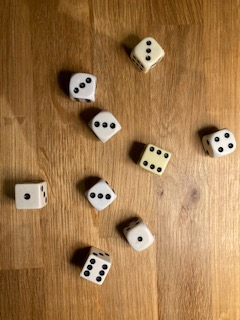four: (202, 129, 237, 159)
one: (123, 219, 156, 253), (14, 181, 49, 210)
six: (79, 248, 112, 287), (139, 144, 171, 176)
three: (129, 36, 166, 74), (88, 110, 123, 142), (85, 179, 117, 213), (68, 73, 97, 102)
